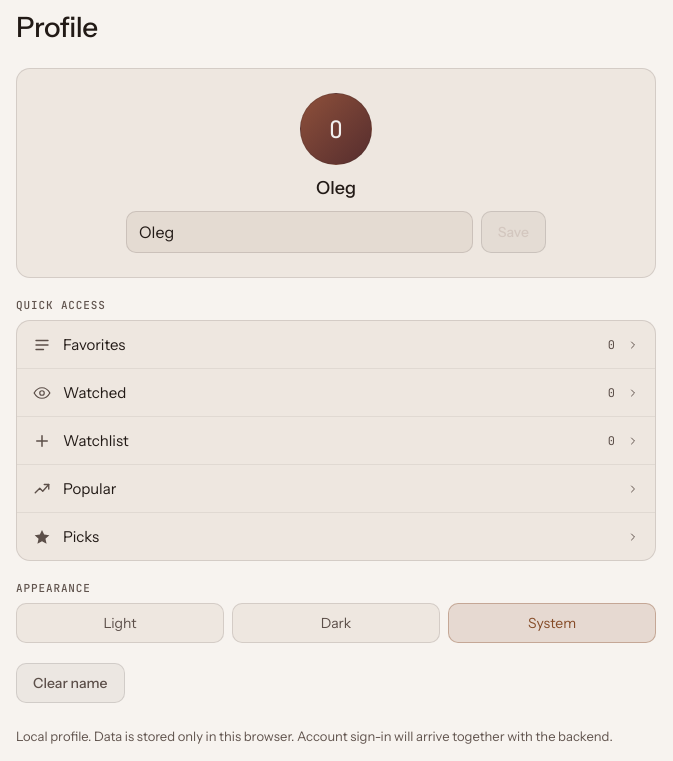
Test case: Profile › Clear name отбрасывает несохранённый черновик
Type "2" into the field named "Display name" at (299, 232), box [126, 211, 473, 253]
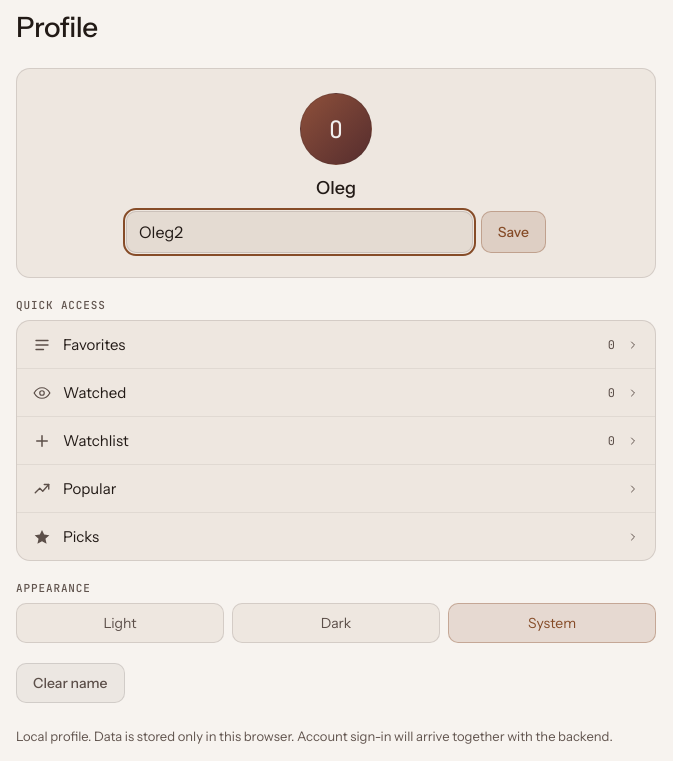
Result: the field named "Display name" holds "Oleg2" at [126, 211, 473, 253]
Click the button "Clear name" at (70, 683), box [16, 663, 125, 703]
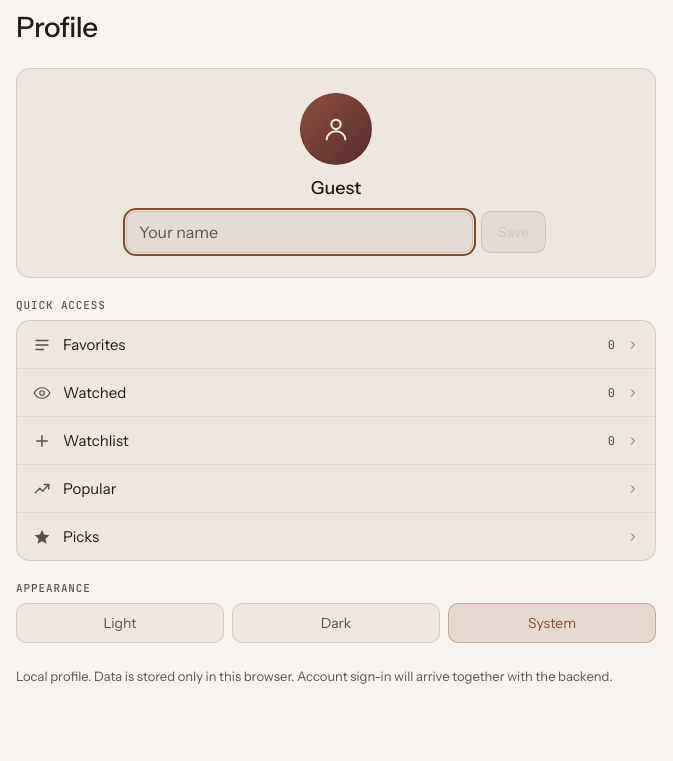
Result: the field named "Display name" is empty at [126, 211, 473, 253]
Result: the button "Save" is disabled at [481, 211, 546, 253]
